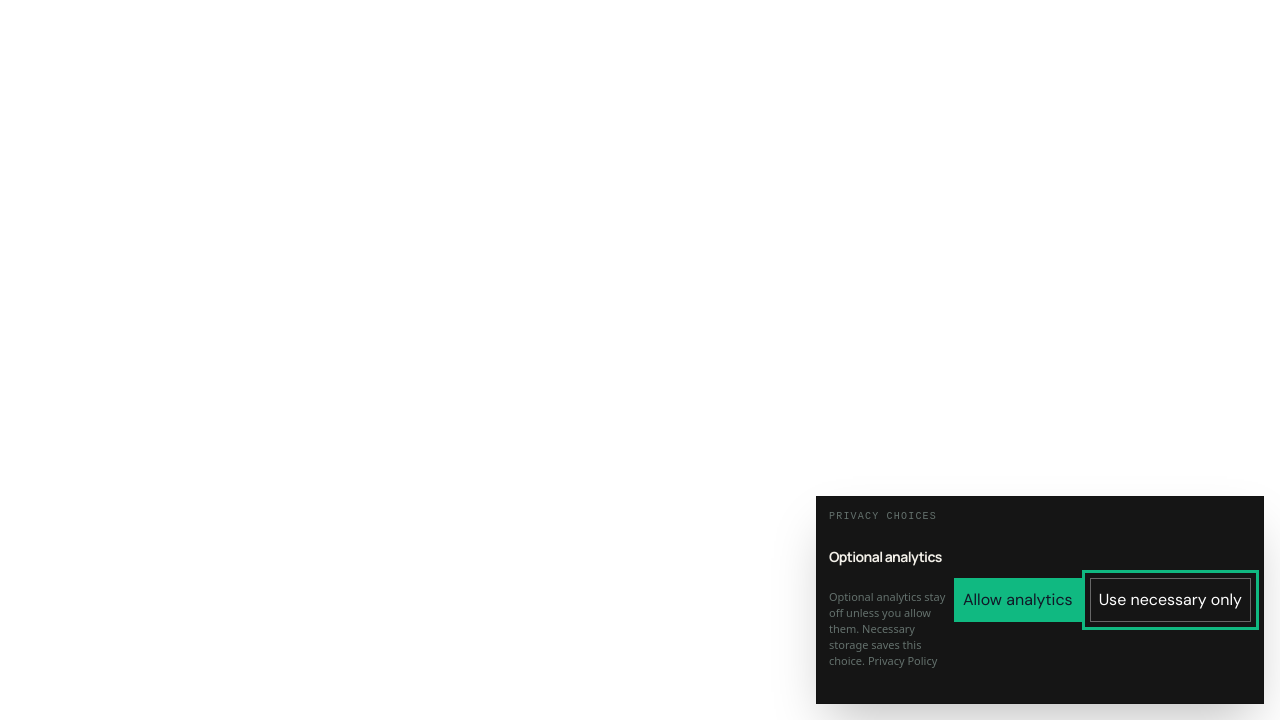
CookieConsent › keeps optional analytics off until the visitor makes an affirmative choice
Check: the dialog is shown, box [816,496,1264,704]
Click the button "Use necessary only" at coordinates (1170, 600), box [1090,578,1251,622]
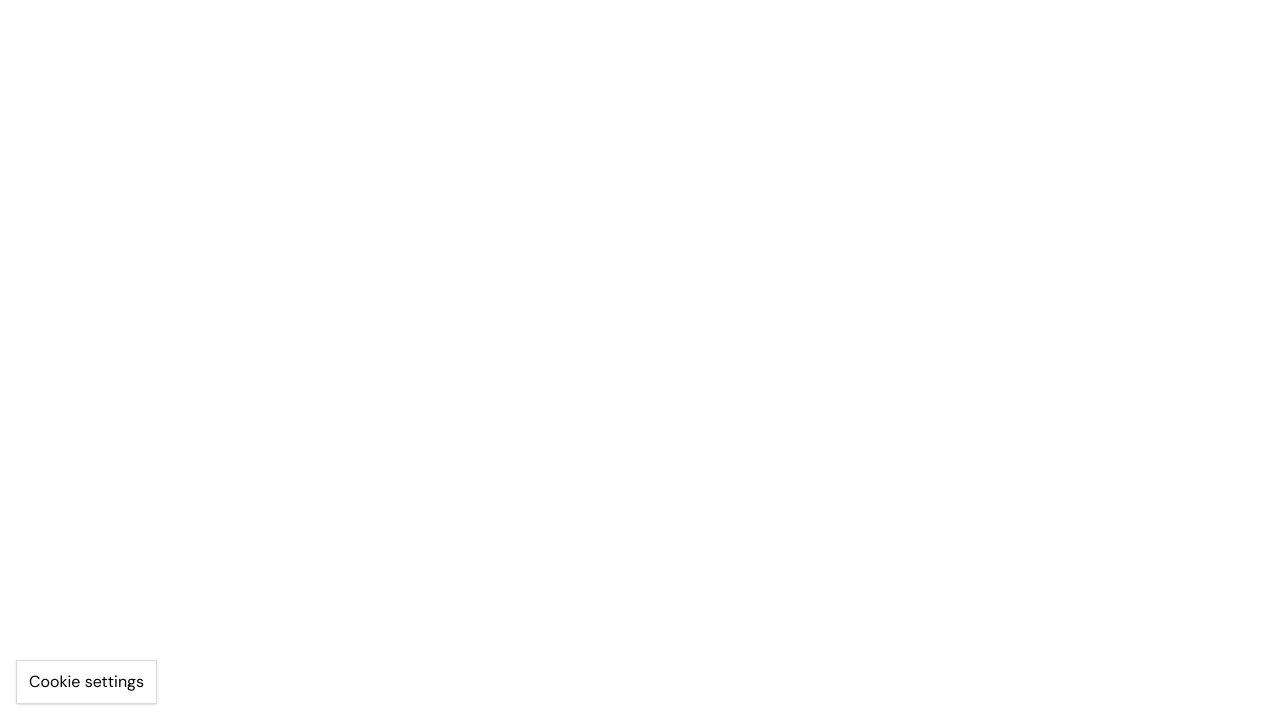
Check: the button "Cookie settings" is shown, box [16,660,157,704]
